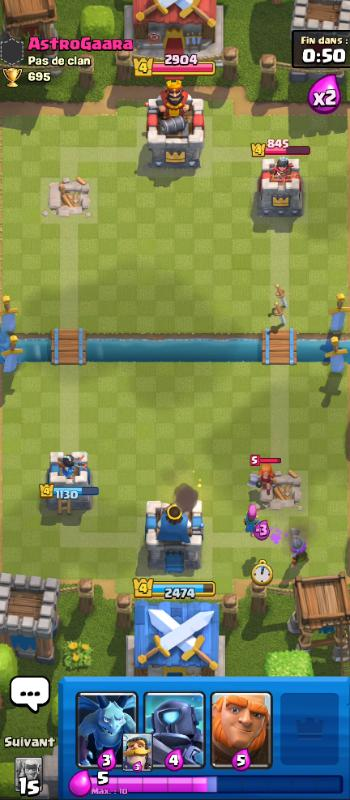archere: (238, 499, 263, 535)
mousquetaire: (281, 523, 312, 567)
valkyrie: (243, 463, 285, 498)
